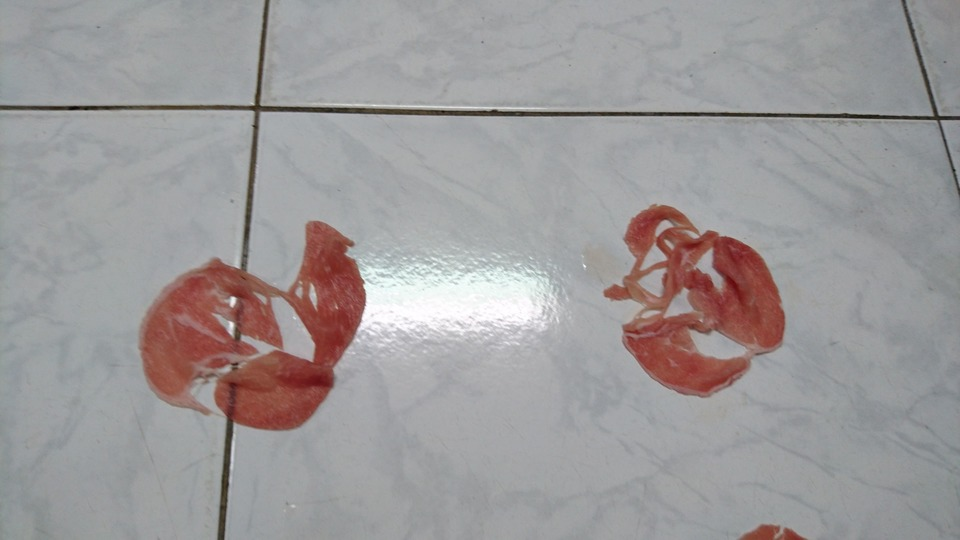restructured meat: (130, 219, 368, 436), (602, 197, 787, 399)
